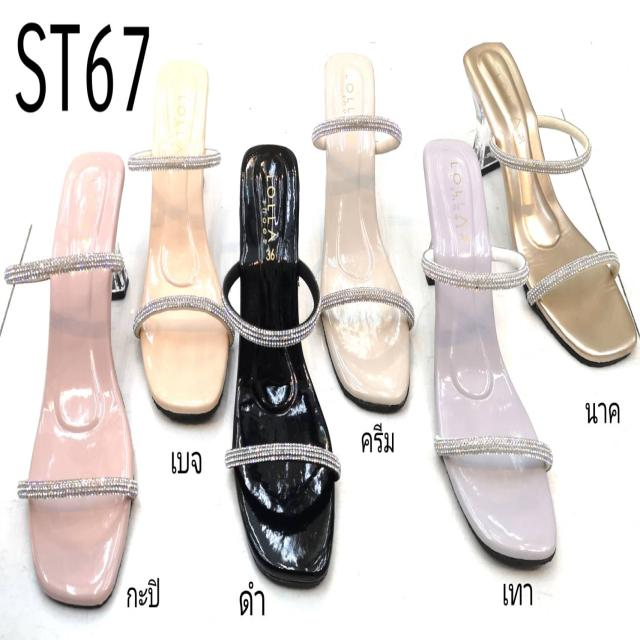bej: (136, 54, 226, 412)
black: (230, 146, 333, 588)
cream: (319, 49, 412, 412)
grey: (421, 144, 559, 568)
kapi: (28, 150, 136, 600)
nak: (469, 36, 638, 368)
